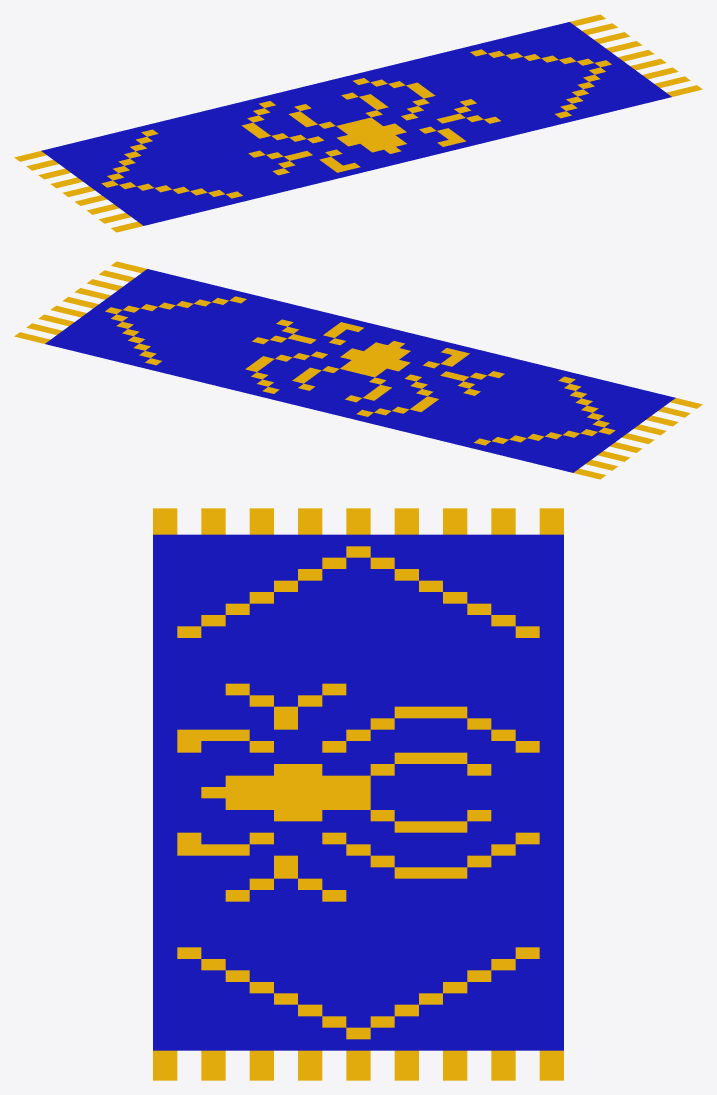
Rendered from Teppich_Symbol_var3.obj.
3 views of the same model, one above another, from view 1: azimuth 30°, elevation 25°; view 2: azimuth 150°, elevation 25°; view 3: azimuth 270°, elevation 25° (orthographic). The views are drawn at different scales.
Parts seen in each view (by area): view 1: Teppich_Var5; view 2: Teppich_Var5; view 3: Teppich_Var5.
Part boxes in pixels (x1,y1,x2,y2): Teppich_Var5: [14, 14, 702, 232]; Teppich_Var5: [14, 261, 702, 479]; Teppich_Var5: [153, 508, 563, 1080].
Bounding box in the file's own units: 2.22 × 1e-06 × 0.6729.
